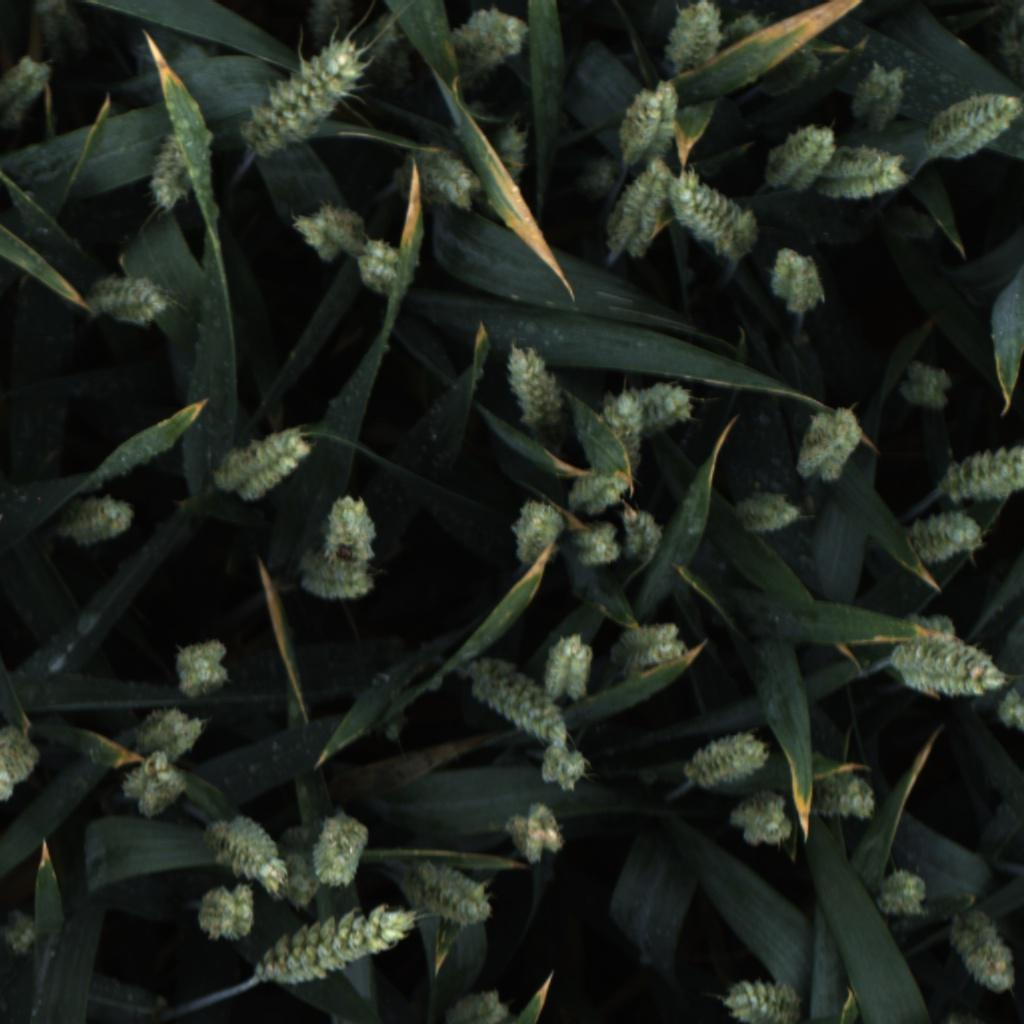0-0: (239, 39, 368, 162), (256, 903, 412, 992), (469, 659, 576, 755), (666, 169, 761, 261), (920, 82, 1024, 166), (883, 635, 1013, 702), (215, 422, 318, 505), (603, 156, 676, 265), (83, 265, 183, 338), (393, 140, 482, 216), (498, 342, 566, 437), (204, 810, 287, 887), (409, 861, 497, 932), (821, 143, 918, 207), (796, 401, 867, 488), (947, 908, 1018, 995), (290, 198, 374, 269), (679, 730, 772, 789), (119, 748, 192, 823), (763, 122, 837, 195), (940, 441, 1024, 505), (309, 809, 371, 891), (294, 546, 378, 606), (910, 509, 986, 574), (53, 492, 138, 550), (711, 974, 809, 1024), (450, 7, 529, 69), (660, 1, 726, 75), (766, 243, 828, 317), (562, 462, 639, 521), (612, 617, 685, 679), (850, 64, 912, 135), (506, 495, 566, 567), (320, 493, 378, 567), (0, 55, 55, 133), (731, 789, 795, 856), (539, 632, 600, 702), (141, 134, 194, 213), (505, 801, 568, 867), (600, 387, 648, 472), (731, 488, 803, 544), (866, 863, 931, 925), (754, 43, 823, 101), (614, 86, 663, 167), (195, 884, 262, 942), (259, 853, 326, 911), (810, 774, 883, 827), (174, 636, 233, 701), (141, 703, 206, 758), (618, 494, 668, 564), (356, 235, 409, 299), (642, 383, 706, 436), (899, 358, 958, 415), (645, 77, 684, 162), (564, 518, 625, 571), (0, 726, 39, 803), (0, 905, 48, 963), (537, 748, 592, 797), (439, 986, 507, 1024), (496, 124, 527, 188), (310, 0, 354, 45), (895, 610, 958, 638), (581, 158, 619, 201), (369, 12, 398, 66), (994, 684, 1024, 730), (999, 30, 1024, 81), (728, 14, 766, 46)
